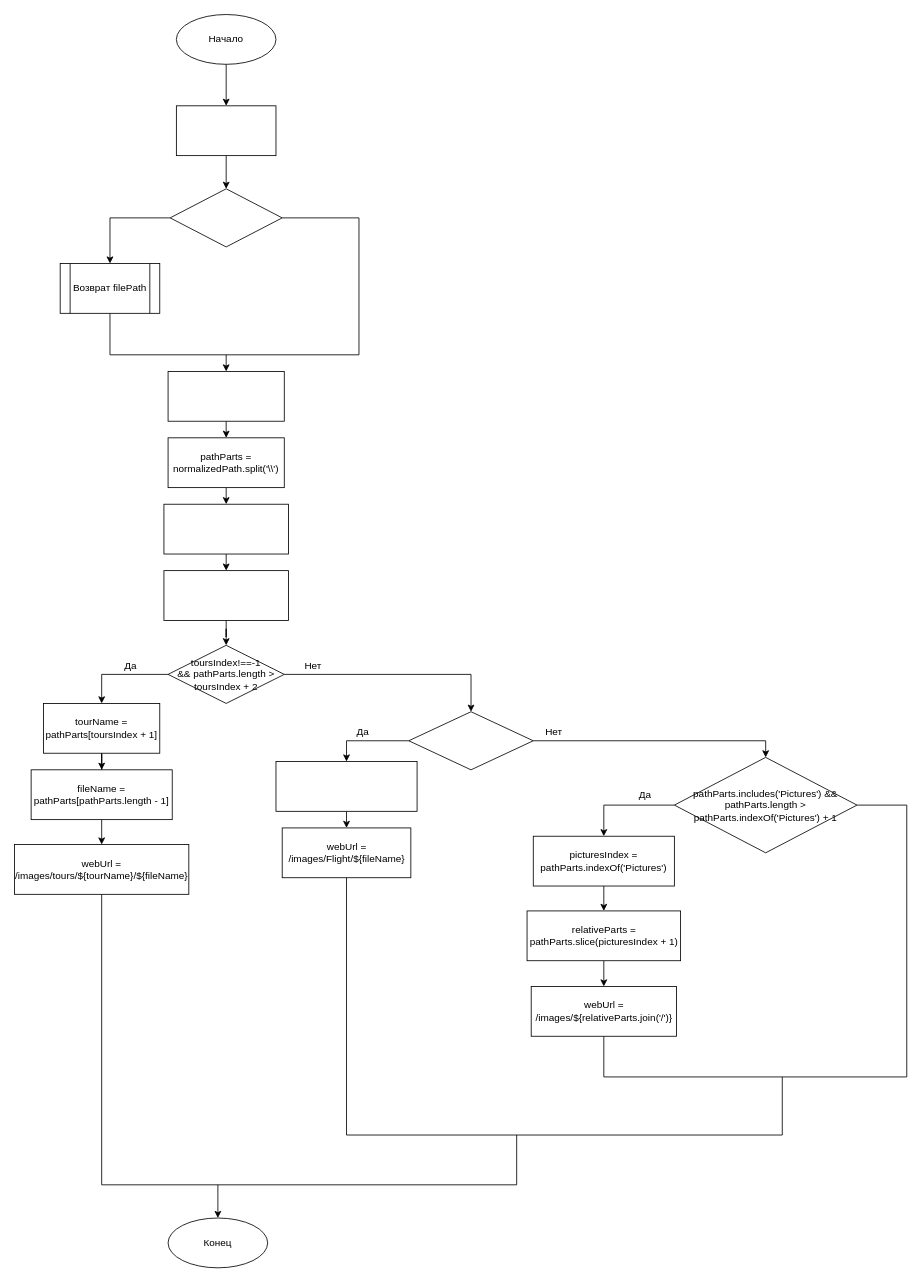
This 922x1282 diagram has some shape labels left out. Here are the shapes that lost their labels. From the top down, the box of each, then its label:
(176, 105, 276, 156): filePath,type,webUrl
(169, 188, 282, 247): filePath. startsWith('http')|| filePath.startWith('/')
(167, 371, 284, 421): normalizePath = filePath.replace(/\\\\/g,'\\')
(163, 503, 288, 554): toursIndex = pathParts.indexOf('Tours')
(163, 570, 288, 620): flightIndex = pathParts.indexOf('Flight')
(408, 711, 533, 770): flightIndex !== -1 && pathParts.length > flightIndex + 1
(275, 761, 417, 811): const fileName = pathParts[pathParts.length - 1]
